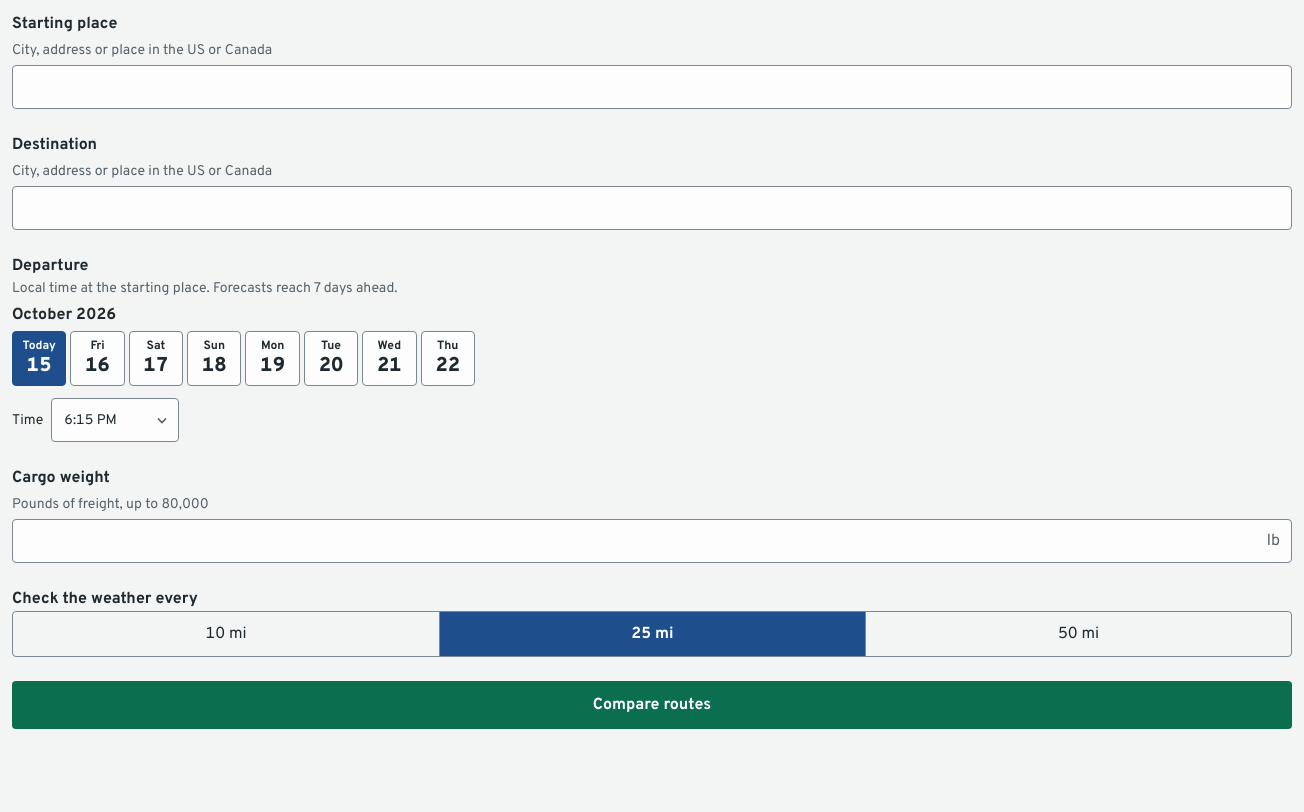
Test case: PlanForm › shows what is missing and focuses the first problem
The image size is (1304, 812).
What coordinates should you click on to do the following:
click the button "Compare routes"
I would click on:
 (652, 705)
Its box is [12,681,1292,729].
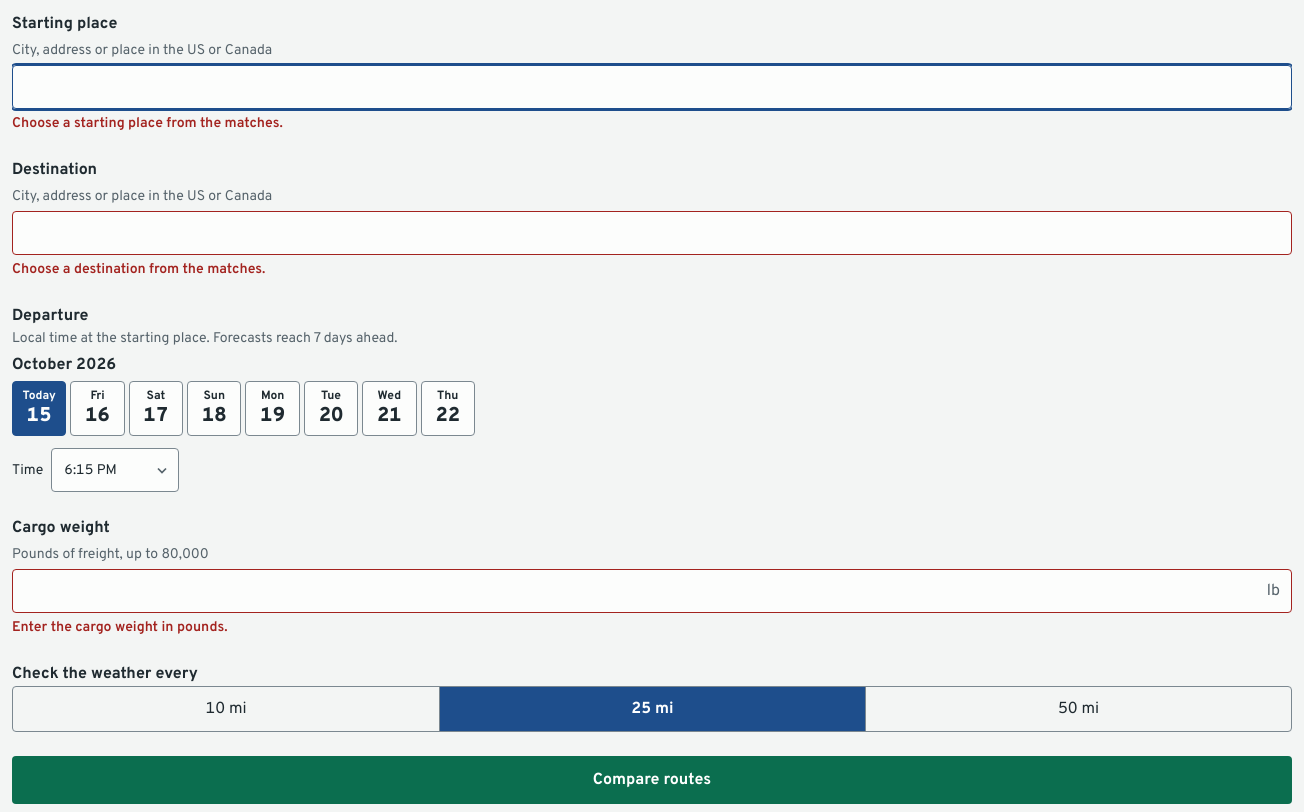
Check: the text "Choose a starting place from the matches." is shown, box [12,115,283,132]
Check: the text "Choose a destination from the matches." is shown, box [12,261,265,278]
Check: the text "Enter the cargo weight in pounds." is shown, box [12,619,228,636]
